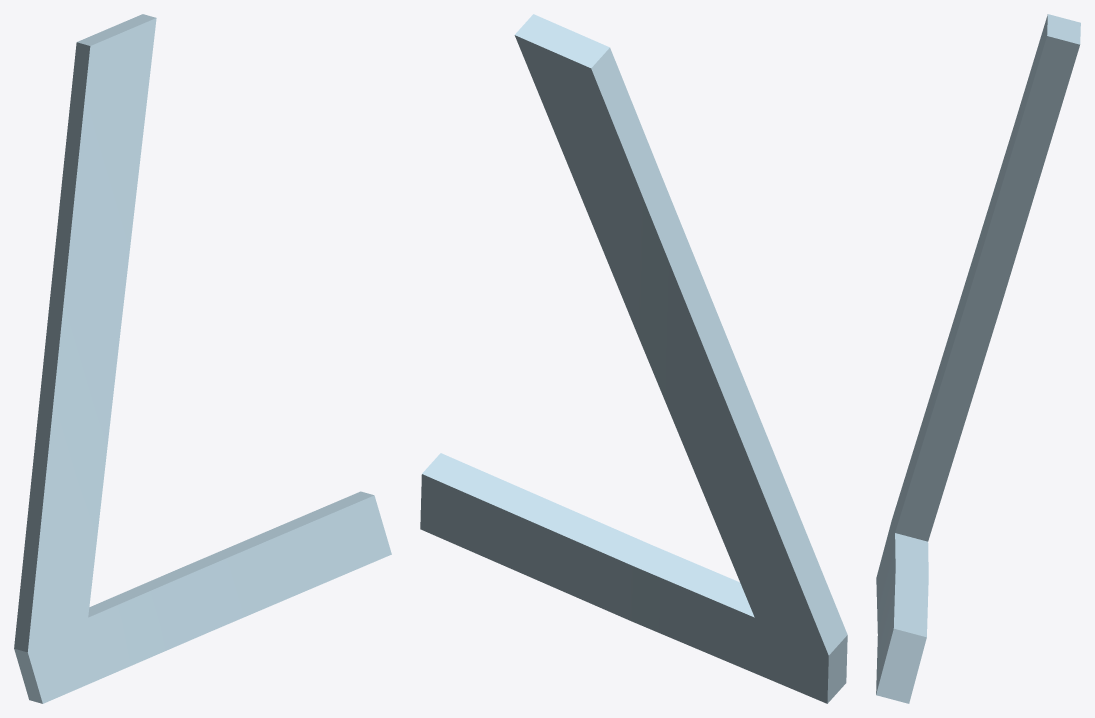
The model's file is Number_7.gltf.
The picture shows the model from 3 angles, left to right: view 1: azimuth 30°, elevation 25°; view 2: azimuth 150°, elevation 25°; view 3: azimuth 270°, elevation 25°; orthographic projection. The views are drawn at different scales.
Parts seen in each view (by area): view 1: Sub_2_Cell_2_1_Number_7; view 2: Sub_2_Cell_2_1_Number_7; view 3: Sub_2_Cell_2_1_Number_7.
Boxes of the visible parts, <box> form: Sub_2_Cell_2_1_Number_7: <box>14,14,391,703</box>; Sub_2_Cell_2_1_Number_7: <box>420,14,847,703</box>; Sub_2_Cell_2_1_Number_7: <box>876,14,1080,703</box>.
Bounding box in the file's own units: 0.0169 × 0.0267 × 0.00758.
